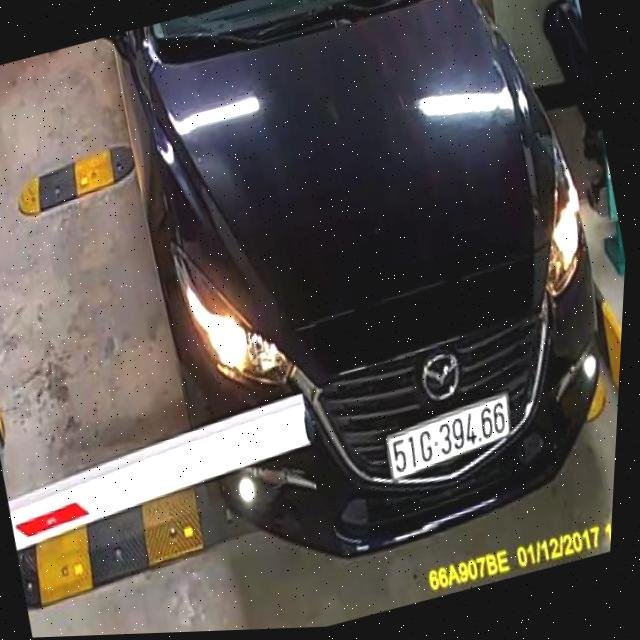car: (64, 0, 640, 611)
plate: (375, 388, 519, 480)
